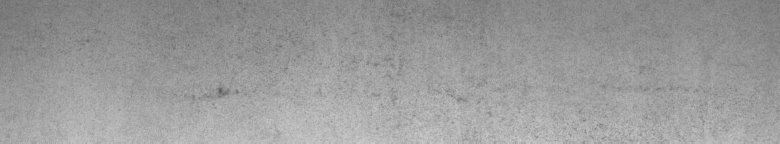ib: (366, 13, 464, 102)
